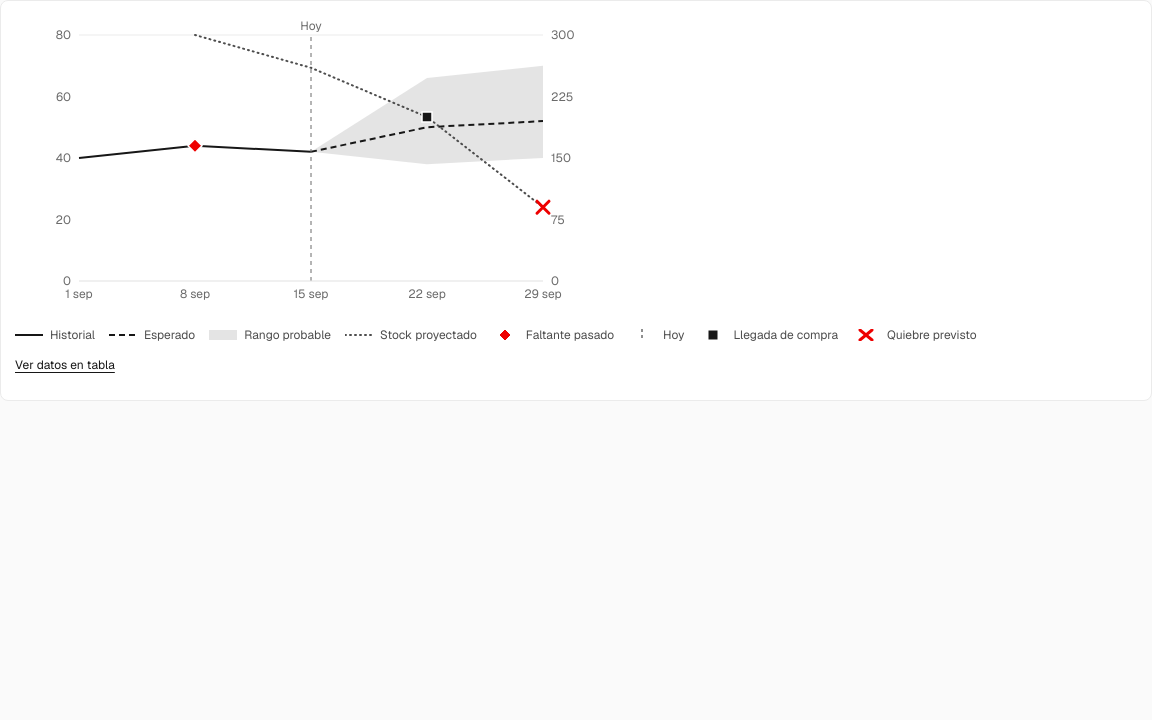
Scenario: ProductForecastChart › table alternative includes projected stock
Click the button "Ver datos en tabla" at (65, 365), box [15,356,115,374]
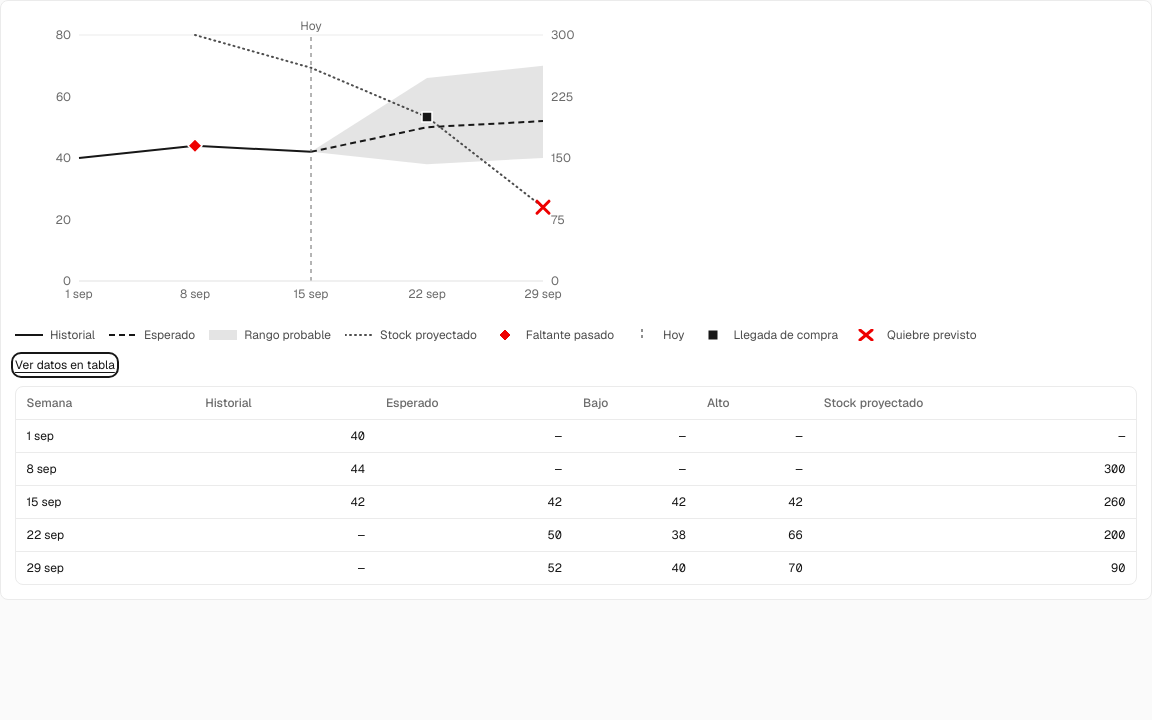
Now the table named "Pronóstico del producto" shows "Stock proyectado", box [824,394,923,410]
Now the table named "Pronóstico del producto" shows "300", box [1104,460,1126,476]
